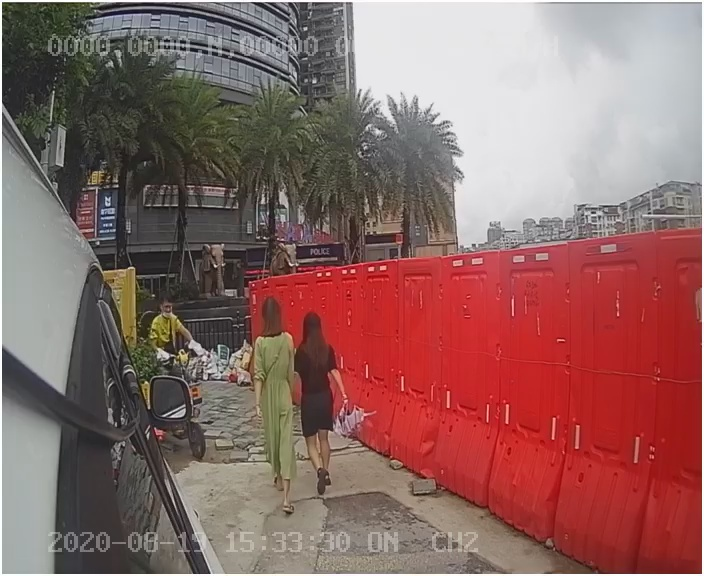person: (239, 294, 307, 515), (291, 309, 374, 489)
